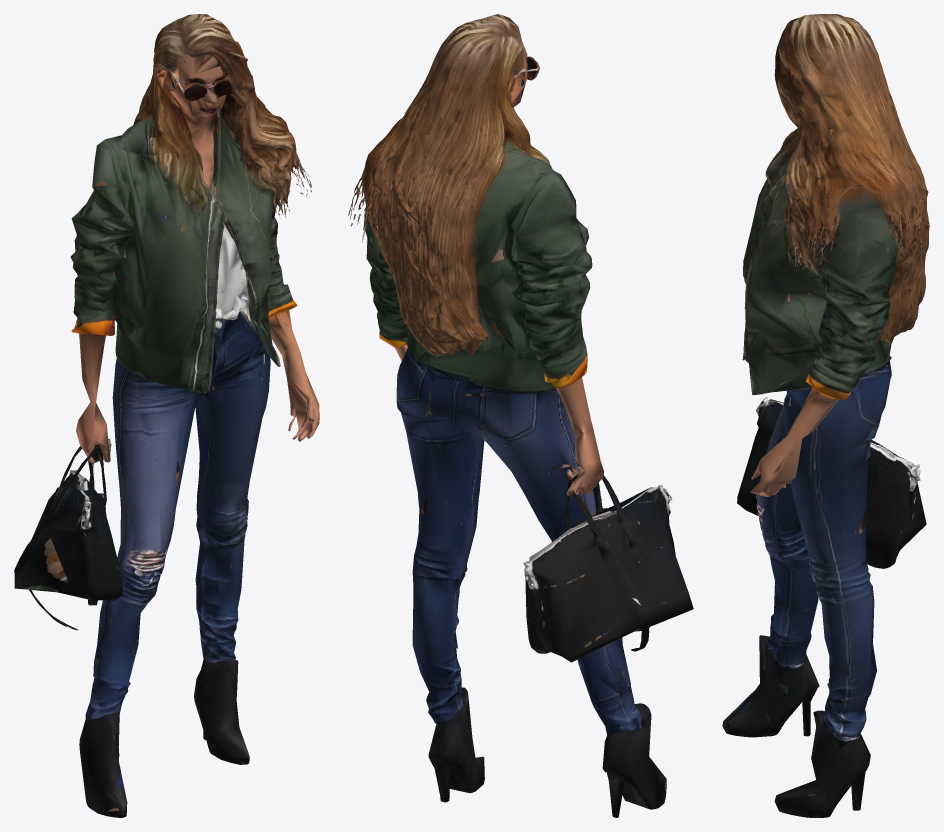
File: urban.glb
3 views of the same model, side by side, from view 1: azimuth 30°, elevation 25°; view 2: azimuth 150°, elevation 25°; view 3: azimuth 270°, elevation 25° (orthographic). The views are drawn at different scales.
Bounding box in the file's own units: 0.8064 × 1.89 × 0.4565.
1 material, 1 textured.
